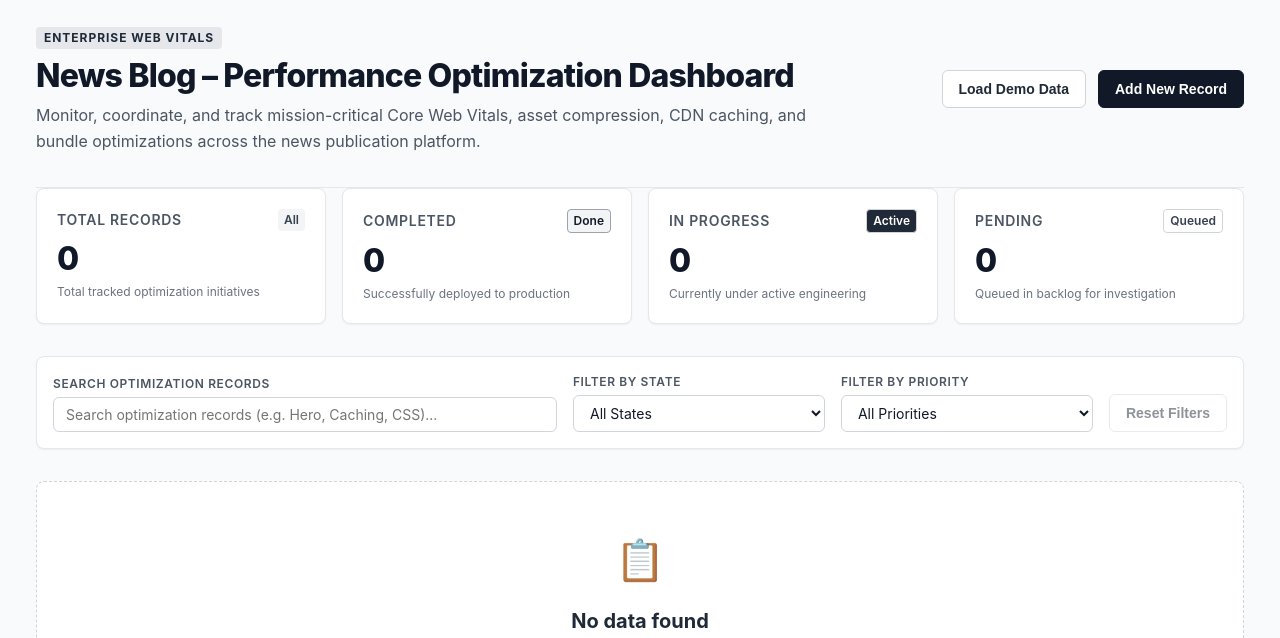
Scenario: B. Record Management Requirements › removes invalid highlight and error message once valid input is entered
Click the button "Add New Record" at (1171,89), box [1098,70,1244,108]
(page scrolled)
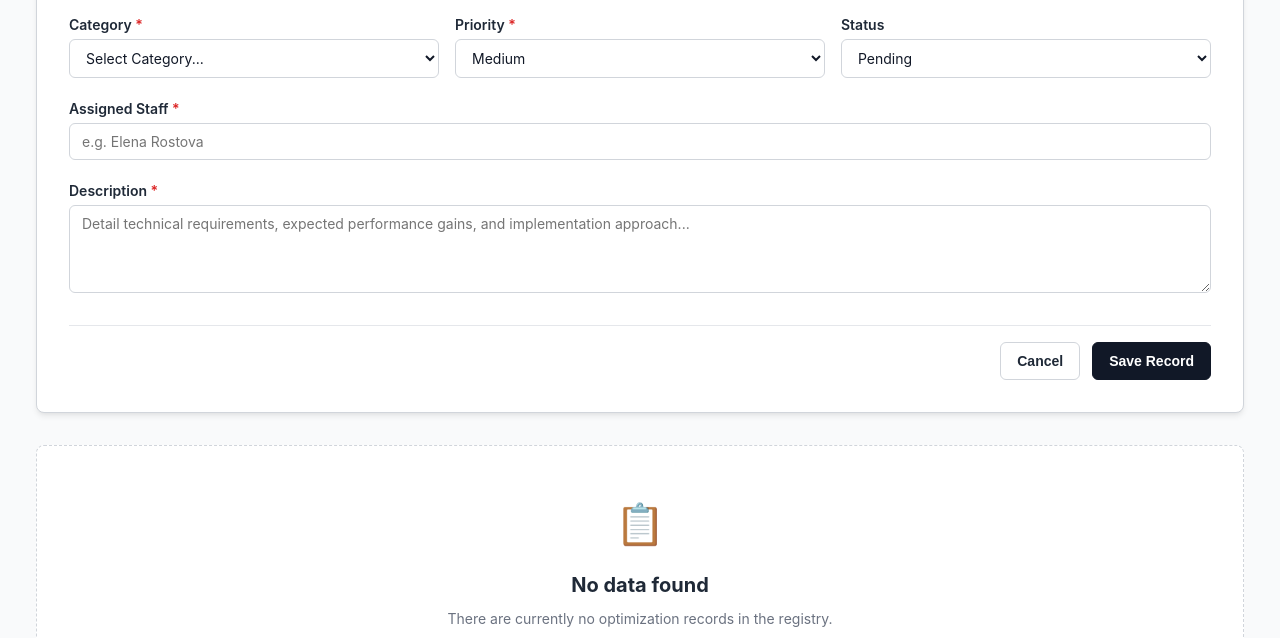
# Trigger validation error
Click the button "Save Record" at (1152,361), box [1092,342,1211,380]
(page scrolled)
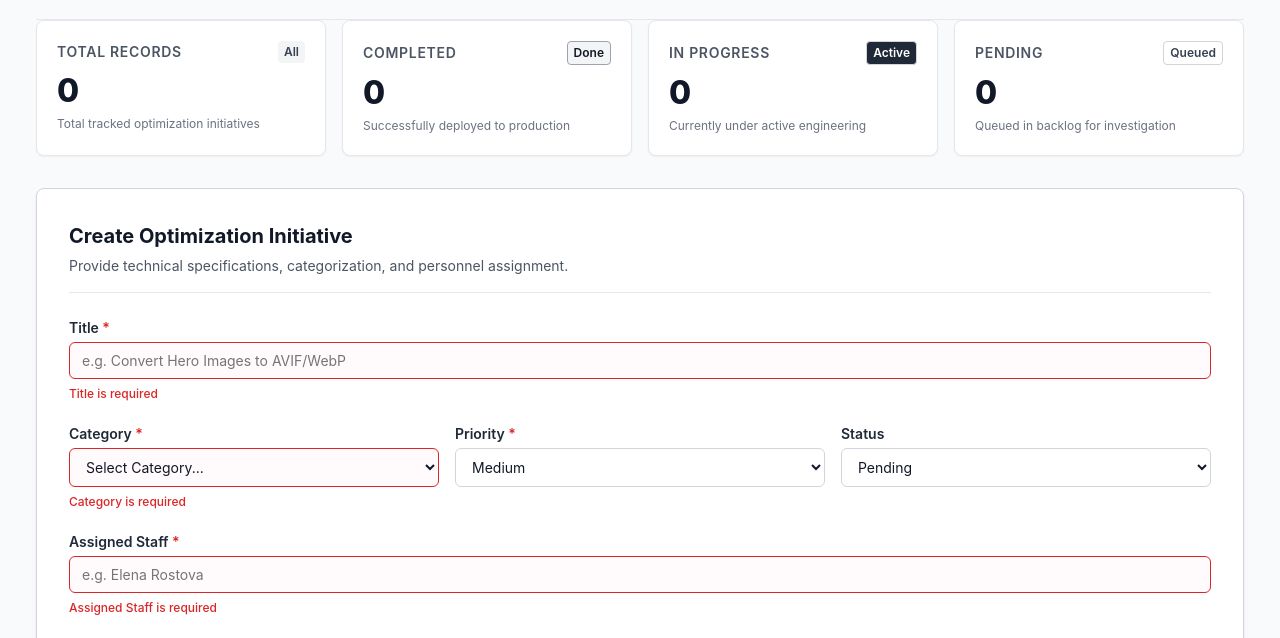
Expected: the field labelled "Title *" is marked as invalid
# Now type valid input
Type "Minify JavaScript Bundles" into the field labelled "Title *" at (640,360), box [69,342,1211,379]
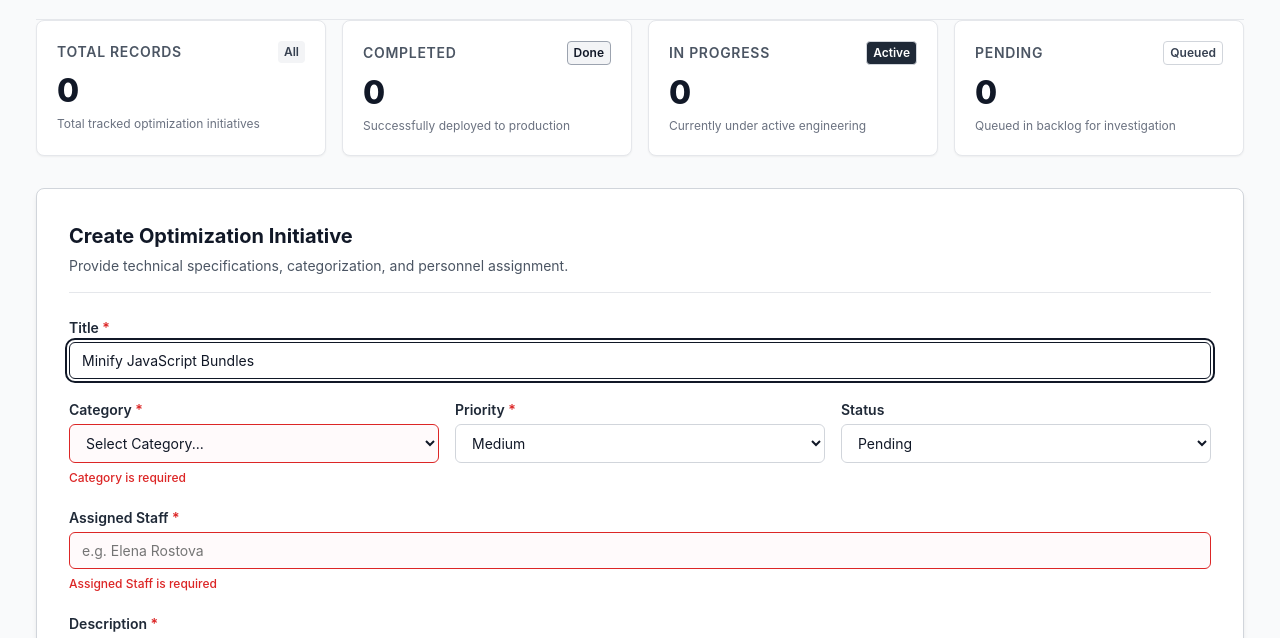
Expected: the text "Title is required" is gone
